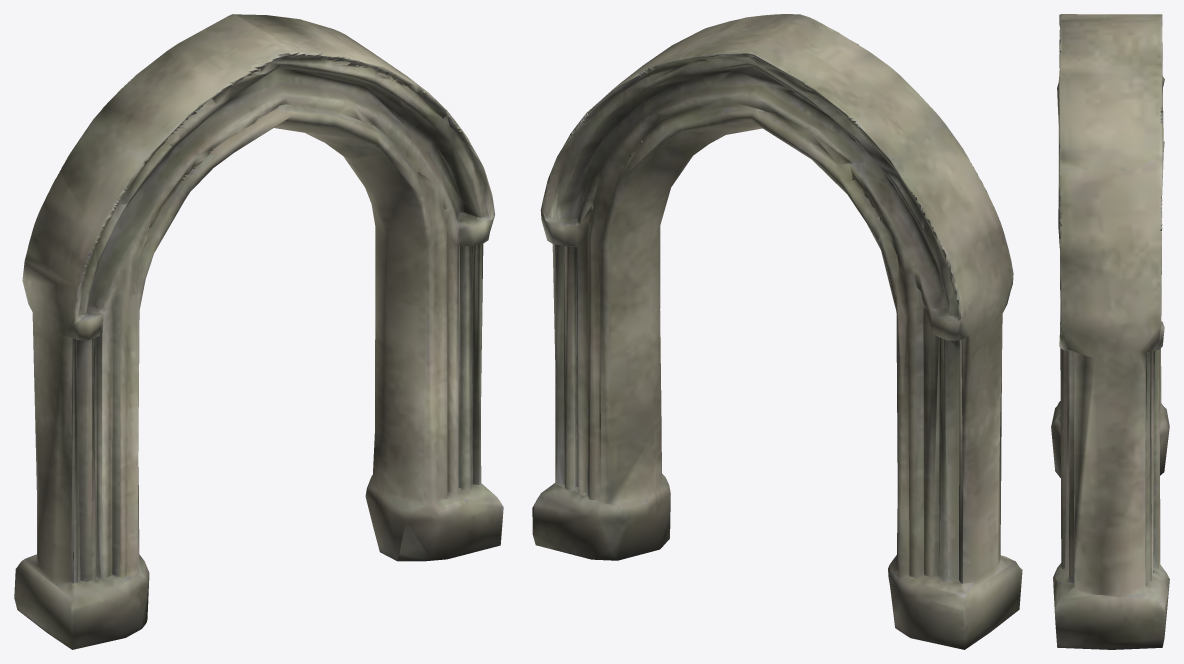
The model's file is ancient-limestone-arched-doorway-v002.glb.
3 renders of one model, left to right at view 1: azimuth 30°, elevation 25°; view 2: azimuth 150°, elevation 25°; view 3: azimuth 270°, elevation 25°, orthographic. The views are drawn at different scales.
Parts seen in each view (by area): view 1: ancient-limestone-arched-doorway; view 2: ancient-limestone-arched-doorway; view 3: ancient-limestone-arched-doorway.
Part boxes in pixels (x1,y1,x2,y2): ancient-limestone-arched-doorway: [14, 14, 503, 649]; ancient-limestone-arched-doorway: [532, 14, 1022, 649]; ancient-limestone-arched-doorway: [1051, 14, 1169, 649].
Size of the model in its own units: 2.04 by 2.47 by 0.5038.
1 material, 1 textured.
